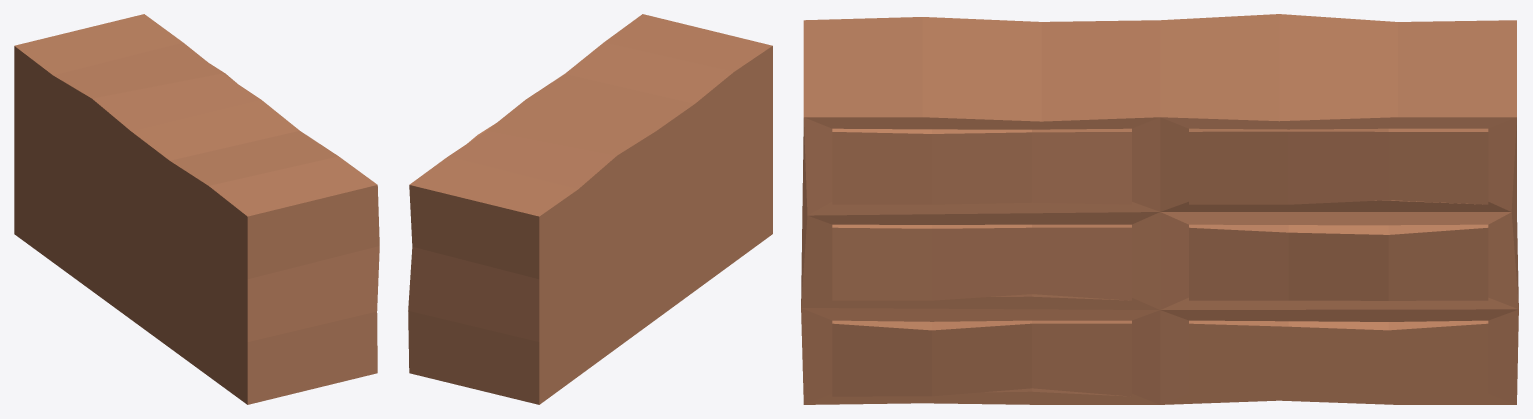
Rendered from dresser_3.fbx.
The picture shows the model from 3 angles, left to right: view 1: azimuth 30°, elevation 25°; view 2: azimuth 150°, elevation 25°; view 3: azimuth 270°, elevation 25°; orthographic projection. The views are drawn at different scales.
Visible parts, largest first — view 1: Dresser; view 2: Dresser; view 3: Dresser.
Part boxes in pixels (box(x1,y1,x2,y2)): Dresser: box(14, 14, 379, 404); Dresser: box(408, 14, 772, 404); Dresser: box(801, 14, 1518, 404).
Size of the model in its own units: 101 by 133 by 294.
